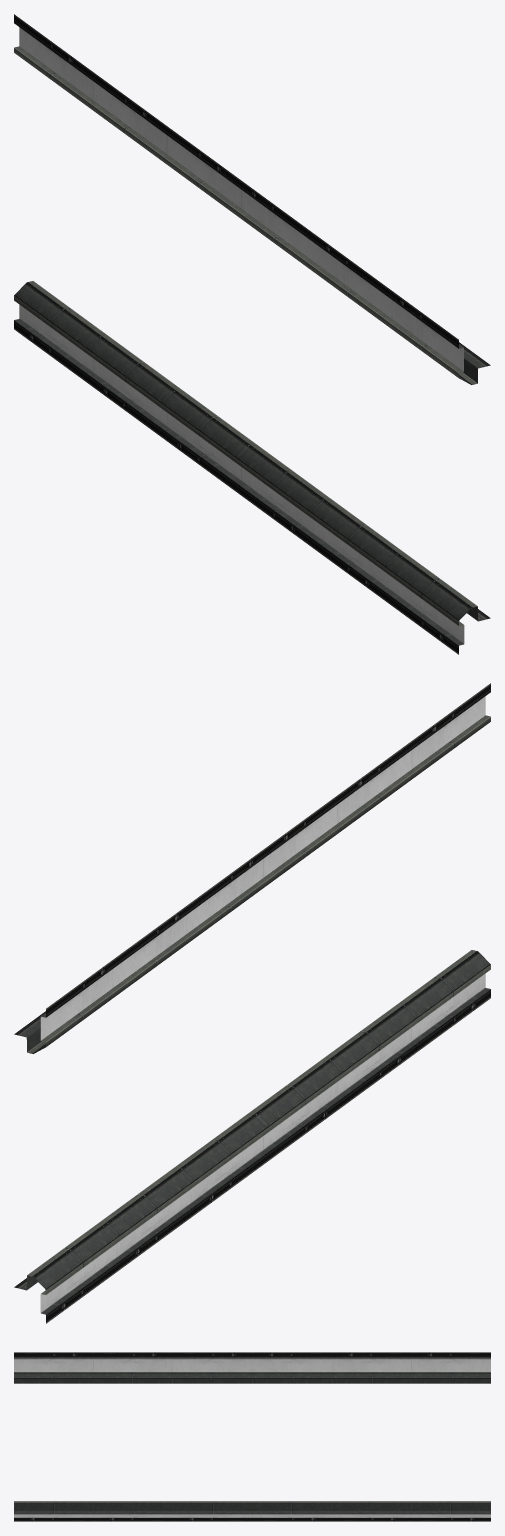
The model's file is Emb_Window_01_Frame.FBX.
3 renders of one model, top to bottom at view 1: azimuth 30°, elevation 25°; view 2: azimuth 150°, elevation 25°; view 3: azimuth 270°, elevation 25°, orthographic. The views are drawn at different scales.
Parts seen in each view (by area): view 1: Emb_Window_01_Frame; view 2: Emb_Window_01_Frame; view 3: Emb_Window_01_Frame.
Boxes of the visible parts, x1,y1,x2,y2 form: Emb_Window_01_Frame: (14, 14, 490, 654); Emb_Window_01_Frame: (14, 683, 490, 1323); Emb_Window_01_Frame: (14, 1352, 490, 1521).
Size of the model in its own units: 0.5008 by 4.7 by 12.01.
